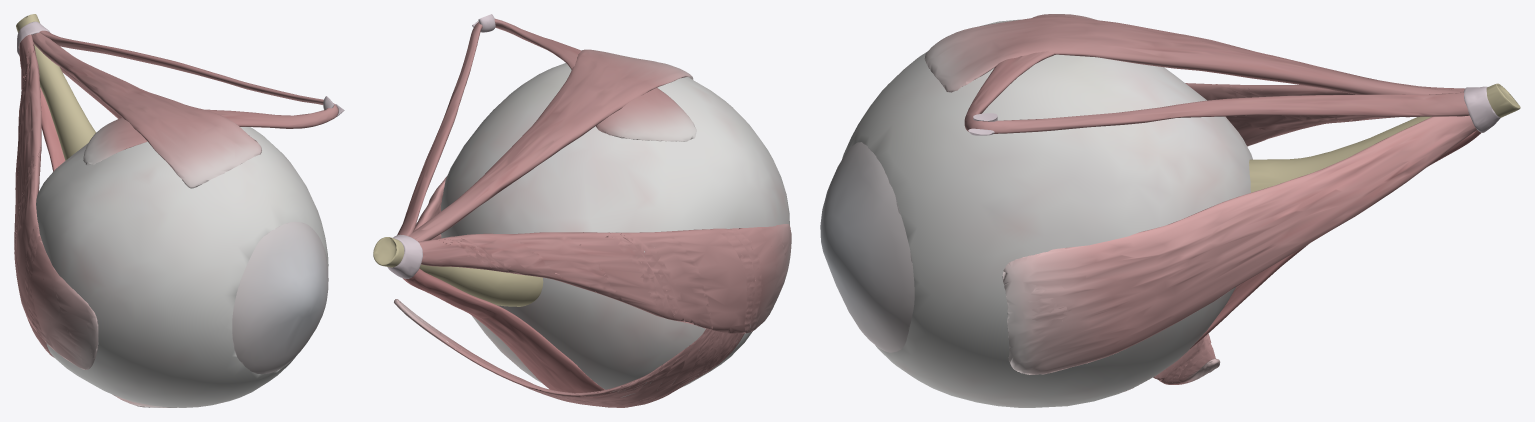
The model's file is eyes.glb.
3 views of the same model, side by side, from view 1: azimuth 30°, elevation 25°; view 2: azimuth 150°, elevation 25°; view 3: azimuth 270°, elevation 25° (orthographic). The views are drawn at different scales.
Visible parts, largest first — view 1: Object_35, Object_33, Object_24, Object_19, Object_7, Object_20, Object_30, Object_16, Object_37; view 2: Object_35, Object_19, Object_24, Object_20, Object_7, Object_16, Object_30, Object_12, Object_11, Object_10, Object_37, Object_28; view 3: Object_35, Object_28, Object_24, Object_33, Object_7, Object_30, Object_19, Object_16, Object_20, Object_37, Object_11, Object_26 (+1 smaller).
Part boxes in pixels (x1=…): Object_35: x1=36, y1=127, x2=328, y2=407; Object_33: x1=232, y1=221, x2=328, y2=374; Object_24: x1=31, y1=32, x2=261, y2=188; Object_19: x1=14, y1=34, x2=97, y2=369; Object_7: x1=39, y1=30, x2=338, y2=165; Object_20: x1=14, y1=39, x2=98, y2=369; Object_30: x1=16, y1=14, x2=95, y2=160; Object_16: x1=40, y1=87, x2=176, y2=407; Object_37: x1=17, y1=21, x2=49, y2=55; Object_35: x1=440, y1=63, x2=789, y2=397; Object_19: x1=418, y1=227, x2=791, y2=333; Object_24: x1=408, y1=49, x2=693, y2=241; Object_20: x1=428, y1=224, x2=791, y2=333; Object_7: x1=397, y1=18, x2=696, y2=236; Object_16: x1=402, y1=268, x2=617, y2=402; Object_30: x1=373, y1=237, x2=543, y2=306; Object_12: x1=398, y1=289, x2=755, y2=405; Object_11: x1=395, y1=280, x2=755, y2=407; Object_10: x1=394, y1=292, x2=754, y2=407; Object_37: x1=387, y1=234, x2=422, y2=278; Object_28: x1=414, y1=176, x2=446, y2=239; Object_35: x1=842, y1=19, x2=1252, y2=407; Object_28: x1=1002, y1=115, x2=1476, y2=374; Object_24: x1=924, y1=16, x2=1463, y2=94; Object_33: x1=820, y1=142, x2=914, y2=352; Object_7: x1=964, y1=14, x2=1469, y2=133; Object_30: x1=1249, y1=83, x2=1520, y2=192; Object_19: x1=1185, y1=83, x2=1464, y2=146; Object_16: x1=1124, y1=130, x2=1480, y2=391; Object_20: x1=1216, y1=84, x2=1450, y2=143; Object_37: x1=1463, y1=86, x2=1500, y2=132; Object_11: x1=1155, y1=333, x2=1219, y2=384; Object_26: x1=1002, y1=255, x2=1071, y2=374.
Bounding box in the file's own units: 17.17 × 16.34 × 27.75.
